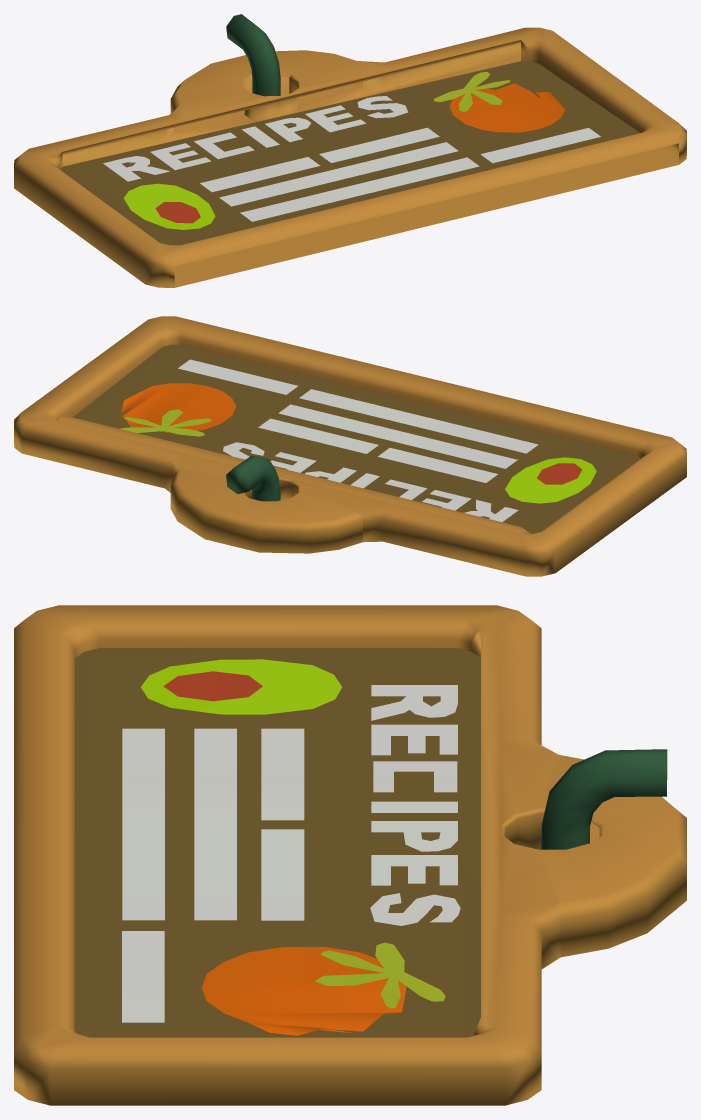
Rendered from kitchen_recipes.fbx.
3 renders of one model, top to bottom at view 1: azimuth 30°, elevation 25°; view 2: azimuth 150°, elevation 25°; view 3: azimuth 270°, elevation 25°, orthographic. The views are drawn at different scales.
Visible parts, largest first — view 1: wall_recipes; view 2: wall_recipes; view 3: wall_recipes.
Part boxes in pixels (<box>): wall_recipes: <box>14,14,686,287</box>; wall_recipes: <box>14,316,686,576</box>; wall_recipes: <box>14,605,686,1105</box>.
Size of the model in its own units: 0.9856 by 0.1267 by 0.615.
